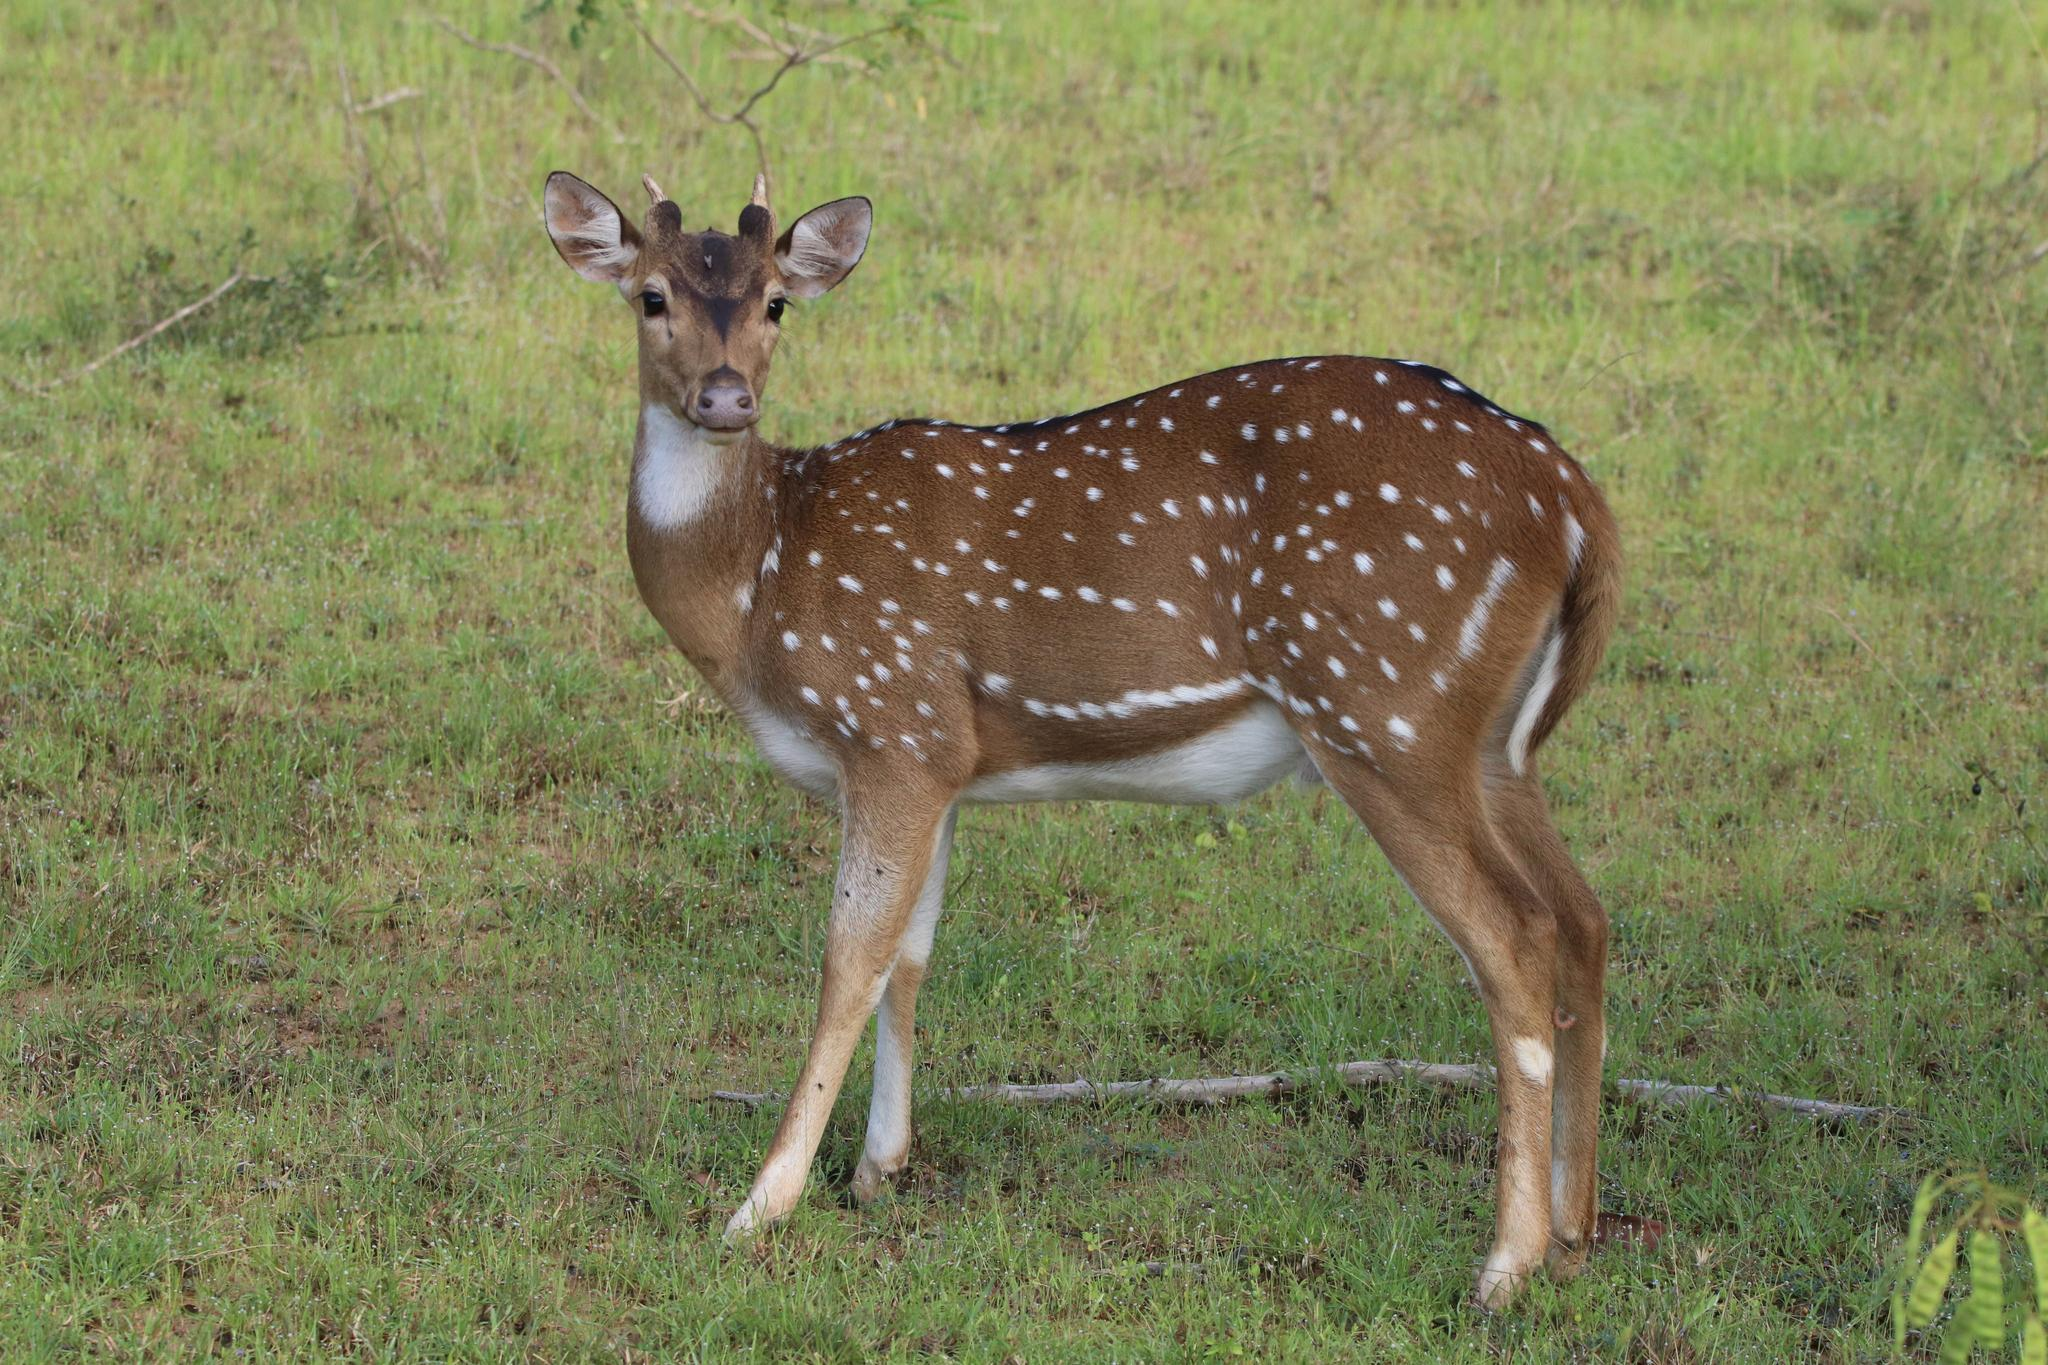Deer: (547, 174, 1619, 1303)
